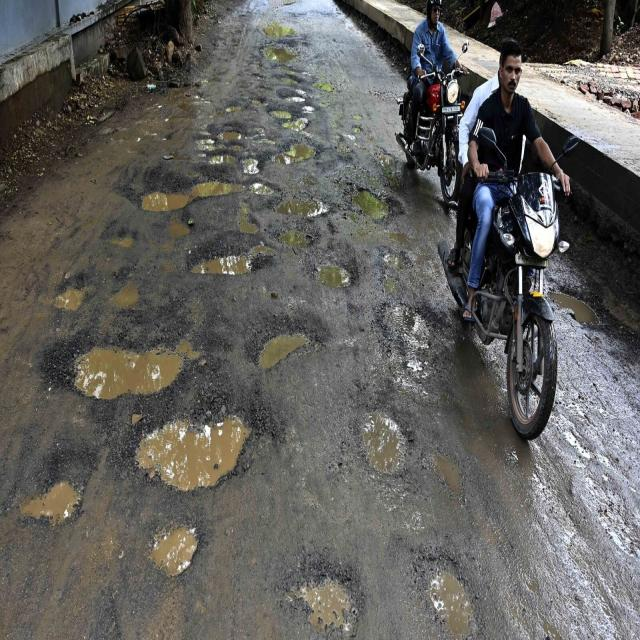motorcycle: (444, 38, 570, 439), (396, 0, 466, 202)
